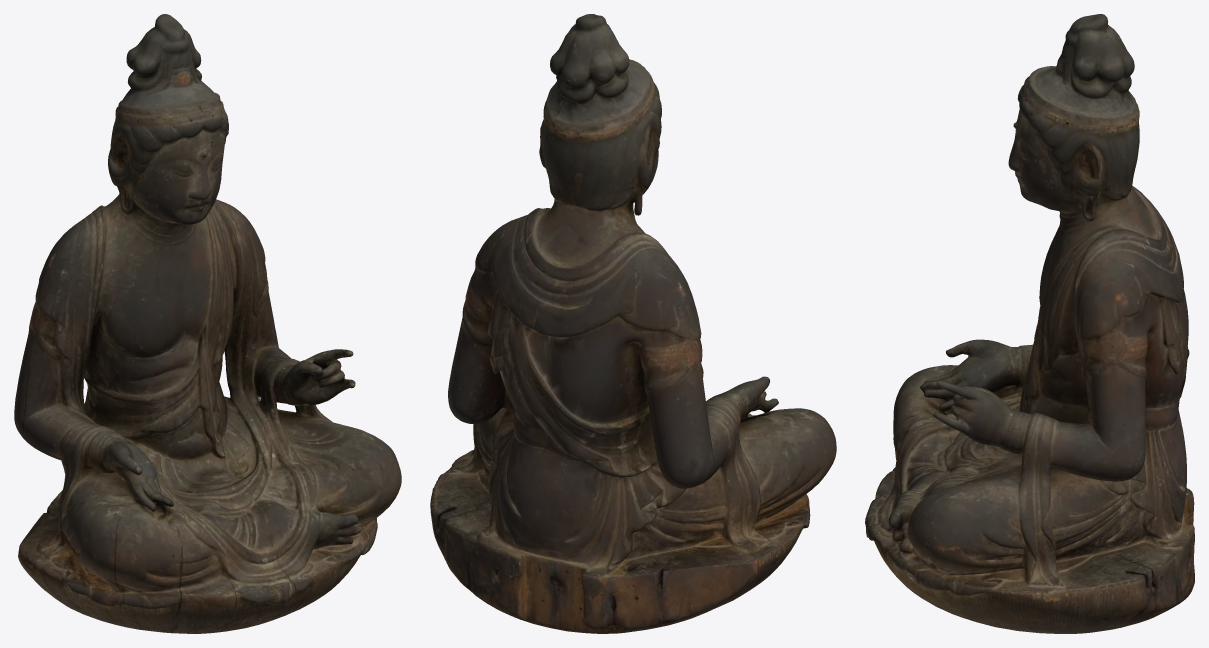
The model's file is nikko.glb.
The picture shows the model from 3 angles, left to right: view 1: azimuth 30°, elevation 25°; view 2: azimuth 150°, elevation 25°; view 3: azimuth 270°, elevation 25°; orthographic projection. The views are drawn at different scales.
Parts seen in each view (by area): view 1: Object_2; view 2: Object_2; view 3: Object_2.
Boxes of the visible parts, left/top/right/bottom form: Object_2: left=14, top=14, right=401, bottom=633; Object_2: left=430, top=14, right=836, bottom=633; Object_2: left=865, top=14, right=1194, bottom=633.
Bounding box in the file's own units: 0.594 × 1 × 0.5199.
1 material, 1 textured.
